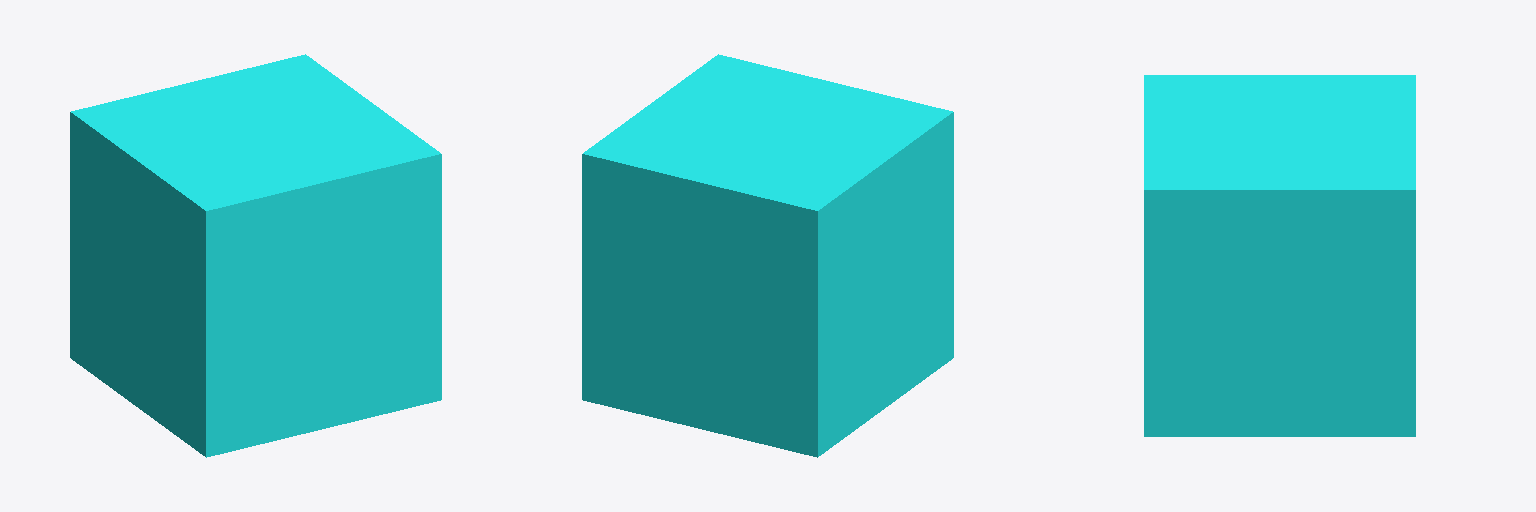
3 renders of one model, left to right at view 1: azimuth 30°, elevation 25°; view 2: azimuth 150°, elevation 25°; view 3: azimuth 270°, elevation 25°, orthographic.
Parts seen in each view (by area): view 1: Cube; view 2: Cube; view 3: Cube.
Part boxes in pixels (left/top/right/bottom): Cube: left=70, top=54, right=441, bottom=457; Cube: left=582, top=54, right=953, bottom=457; Cube: left=1144, top=75, right=1415, bottom=436.
Size of the model in its own units: 2 by 2 by 2.
1 materials, 1 textured.